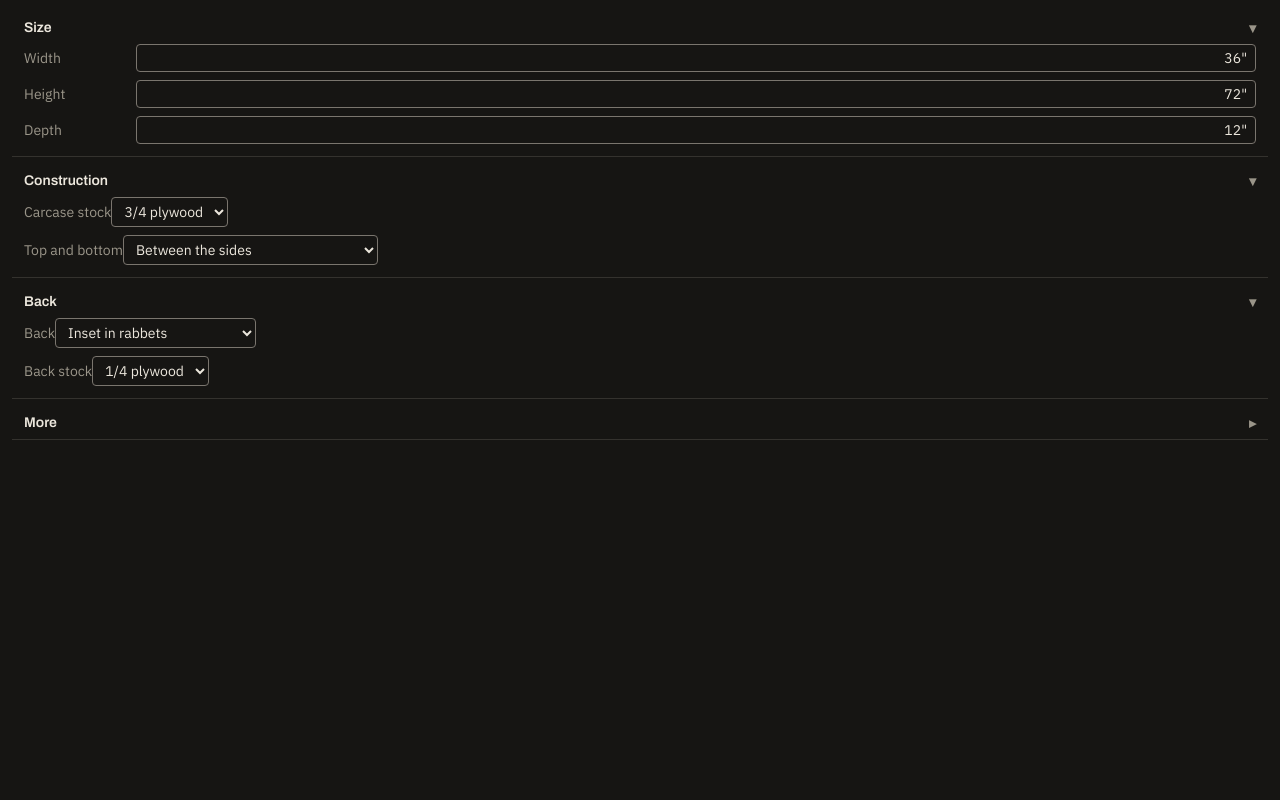
Test: the Shape step › keeps advanced depths behind More, closed at first
Expected: the field labelled "Dado depth" is not shown
Click the button "More": (40, 422) left=12, top=407, right=1268, bottom=439
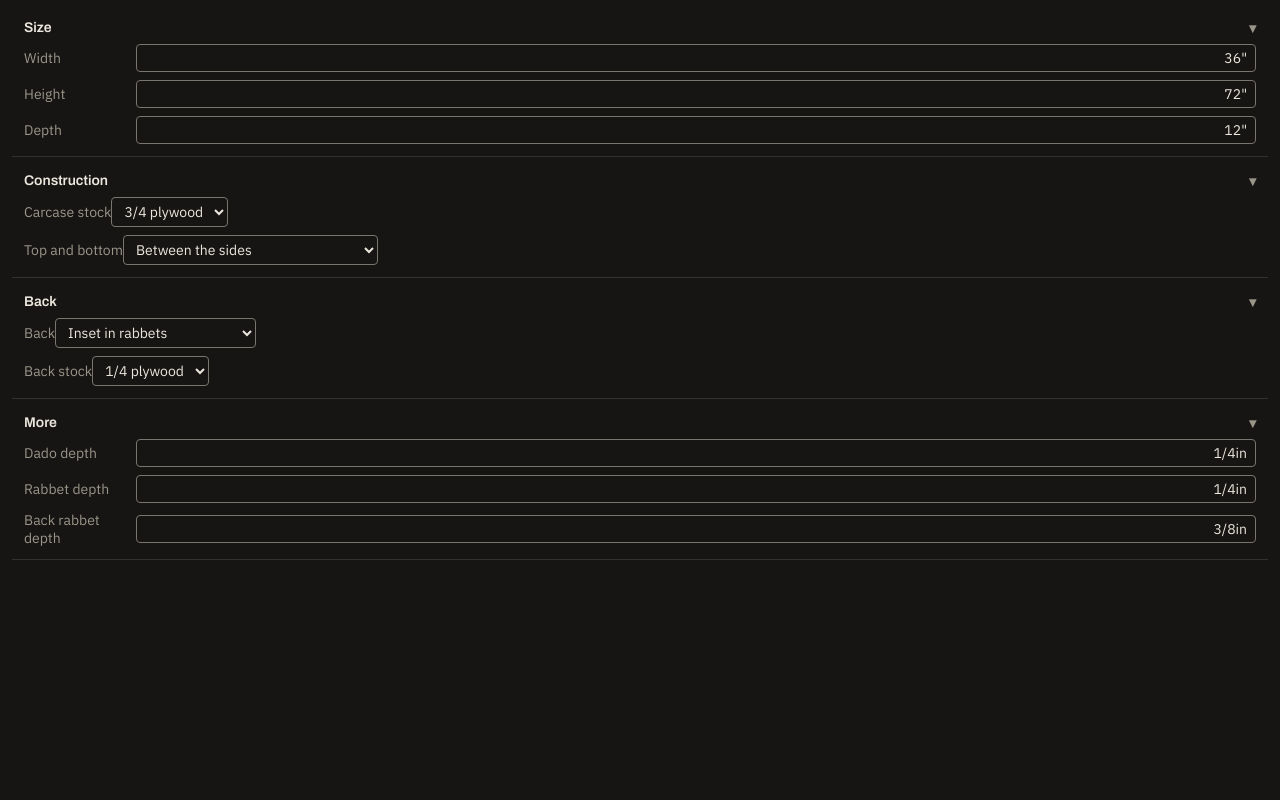
Expected: the field labelled "Dado depth" is shown, left=136, top=439, right=1256, bottom=467
